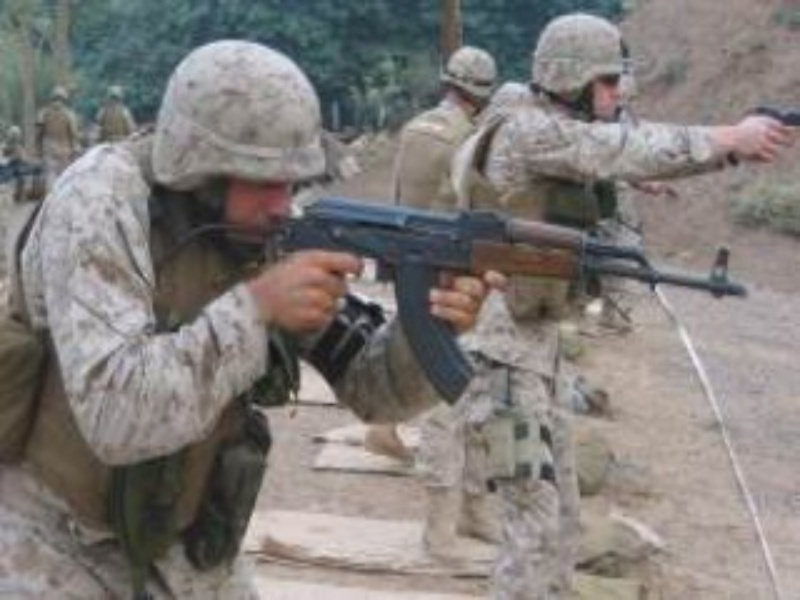person: (1, 38, 510, 600), (449, 11, 795, 600), (392, 44, 497, 213), (36, 86, 81, 188), (94, 85, 137, 141)
weapon: (267, 196, 748, 408)
